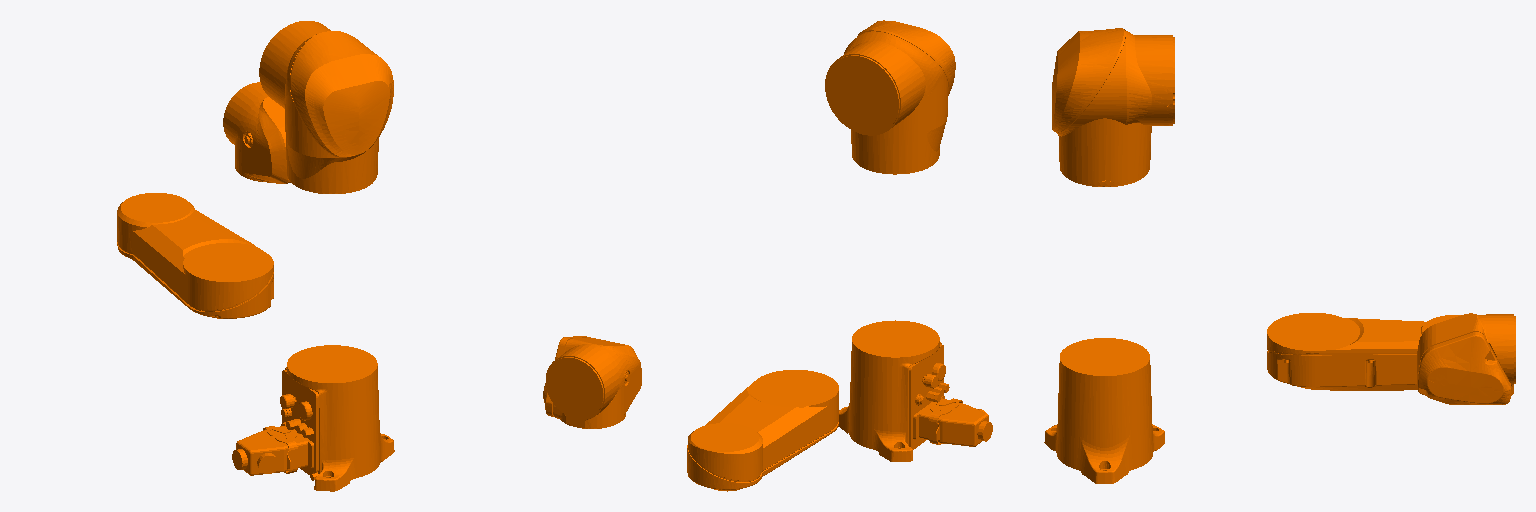
The robot description file, URDF, robot "staubli_tx40":
<?xml version="1.0" encoding="utf-8"?>
<!-- =================================================================================== -->
<!-- |    This document was edited from rx160.urdf                    | -->
<!-- |    EDITING THIS FILE BY HAND IS NOT RECOMMENDED                                 | -->
<!-- =================================================================================== -->
<robot name="staubli_tx40" >
  <!-- RAL 1028 -->
  <!-- RAL 1018 -->
  <!-- RAL 9016 -->
  <!-- RAL 7043 -->
  <!-- links -->
  <material name="yellow">
        <color rgba="1.0 0.502 0 1.0"/>
  </material>
  <material name="grey">
        <color rgba="0.741 0.765 0.780 1.0"/>
  </material>

  <link name="base_link">
    <visual>
      <origin rpy="0 0 0" xyz="0.0 0.0 0.0"/>
      <geometry>
        <mesh filename="package://staubli_tx40_description/meshes/base_link.stl"/>
      </geometry>
      <material name="yellow"/>
    </visual>
    <collision>
      <origin rpy="0 0 0" xyz="-0.008 -0.033 0.167"/>
      <geometry>
        <mesh filename="package://staubli_tx40_description/meshes/base_link.stl"/>
      </geometry>
    </collision>
    <inertial>
      <mass value="4.200"/>
      <origin rpy="0.0 0.0 0.0" xyz="-0.008 -0.033 0.167"/>
      <inertia ixx="0.012" ixy="0.000" ixz="-0.001" iyy="0.012" iyz="0.000" izz="0.007"/>
    </inertial>
  </link>
<!-- joints -->
  <joint name="joint_1" type="revolute">
    <origin rpy="0 0 0" xyz="0 0 0.320"/>
    <parent link="base_link"/>
    <child link="link_1"/>
    <axis xyz="0 0 1"/>
    <limit effort="131.84" lower="-3.14" upper="3.14" velocity="5.009"/>
    <dynamics damping="0.0" friction="0.0"/>
  </joint>

  <link name="link_1">
    <visual>
      <origin rpy="0 0 0" xyz="0.000 0.0 0"/>
      <geometry>
        <mesh filename="package://staubli_tx40_description/meshes/link_1.stl"/>
      </geometry>
      <material name="yellow"/>
    </visual>
    <collision>
      <origin rpy="0 0 0" xyz="0.000 0.020 -0.043"/>
      <geometry>
        <mesh filename="package://staubli_tx40_description/meshes/link_1.stl"/>
      </geometry>
    </collision>
    <inertial>
      <mass value="10.500"/>
      <origin rpy="0.0 0.0 0.0" xyz="0.000 0.020 -0.043"/>
      <inertia ixx="0.055" ixy="0.000" ixz="0.000" iyy="0.047" iyz="0.003" izz="0.035"/>
    </inertial>
  </link>
<!-- joints -->
  <joint name="joint_2" type="revolute">
    <origin rpy="-1.57079632679 0.0  0.0 " xyz="0 0 0"/>
    <parent link="link_1"/>
    <child link="link_2"/>
    <axis xyz="0 0 1"/>
    <limit effort="131.84" lower="-2.18" upper="2.18" velocity="5.009"/>
    <dynamics damping="0.0" friction="0.0"/>
  </joint>

  <link name="link_2">
    <visual>
      <origin rpy="0 0 0" xyz="0.0 0.0 0.0"/>
      <geometry>
        <mesh filename="package://staubli_tx40_description/meshes/link_2.stl"/>
      </geometry>
      <material name="yellow"/>
    </visual>
    <collision>
      <origin rpy="0.0 0.0 0.0" xyz="0.109 -0.002 0.045"/>
      <geometry>
        <mesh filename="package://staubli_tx40_description/meshes/link_2.stl"/>
      </geometry>
    </collision>
    <inertial>
      <mass value="3.600"/>
      <origin rpy="0.0 0.0 -1.57079632679" xyz="0.109 -0.002 0.134"/>
      <inertia ixx="0.009" ixy="0.000" ixz="0.002" iyy="0.038" iyz="0.000" izz="0.040"/>
    </inertial>
  </link>
<!-- joints -->
  <joint name="joint_3" type="revolute">
    <origin rpy="0 0 0" xyz="0.225 0 0.035"/>
    <parent link="link_2"/>
    <child link="link_3"/>
    <axis xyz="0 0 1"/>
    <limit effort="103.49" lower="-2.40" upper="2.40" velocity="7.504"/>
    <dynamics damping="0.0" friction="0.0"/>
  </joint>

  <link name="link_3">
    <visual>
      <origin rpy="0 0 0" xyz="0 0 0"/>
      <geometry>
        <mesh filename="package://staubli_tx40_description/meshes/link_3.stl"/>
      </geometry>
      <material name="yellow"/>
    </visual>
    <collision>
      <origin rpy="0 0 0" xyz="-0.006 0.008 -0.05"/>
      <geometry>
        <mesh filename="package://staubli_tx40_description/meshes/link_3.stl"/>
      </geometry>
    </collision>
    <inertial>
      <mass value="4.070"/>
      <origin rpy="0.0 0.0 -1.57079632679" xyz="0.008 0.006 0.041"/>
      <inertia ixx="0.012" ixy="0.000" ixz="0.001" iyy="0.012" iyz="-0.001" izz="0.004"/>
    </inertial>
  </link>

<!--   <joint name="joint_4" type="revolute">
    <origin rpy="3.14159265359 -1.57079632679 0" xyz="0.225 0 0.0"/>
    <parent link="link_3"/>
    <child link="link_4"/>
    <axis xyz="0 0 1"/>
    <limit effort="46.08" lower="-4.71" upper="4.71" velocity="7.15"/>
    <dynamics damping="0.0" friction="0.0"/>
  </joint>

  <link name="link_4">
    <visual>
      <origin rpy="0 0 0" xyz="0 0 0"/>
      <geometry>
        <mesh filename="package://staubli_tx40_description/meshes/link_4.stl"/>
      </geometry>
      <material name="yellow"/>
    </visual>
    <collision>
      <origin rpy="0 0 0" xyz="0.002 0.004 0.081"/>
      <geometry>
        <mesh filename="package://staubli_tx40_description/meshes/link_4.stl"/>
      </geometry>
    </collision>
    <inertial>
      <mass value="3.620"/>
      <origin rpy="0.0 0.0 1.57079632679" xyz="0.002 0.004 -0.107"/>
      <inertia ixx="0.013" ixy="0.000" ixz="0.000" iyy="0.014" iyz="0.001" izz="0.004"/>
    </inertial>
  </link>
 -->
<!--   <joint name="joint_5" type="revolute">
    <origin rpy="0 1.57079632679 3.14159265359" xyz="0 0 0"/>
    <parent link="link_4"/>
    <child link="link_5"/>
    <axis xyz="0 0 1"/>
    <limit effort="43.19" lower="-2.09" upper="2.33" velocity="5.585"/>
    <dynamics damping="0.0" friction="0.0"/>
  </joint>

  <link name="link_5">
    <visual>
      <origin rpy="1.57079632679 0 0" xyz="-0.225 0.545 -0.035"/>
      <geometry>
        <mesh filename="package://staubli_tx40_description/meshes/link_5.stl"/>
      </geometry>
      <material name="grey"/>
    </visual>
    <collision>
      <origin rpy="0 0 0" xyz="0.003 0.000 -0.001"/>
      <geometry>
        <mesh filename="package://staubli_tx40_description/meshes/link_5.stl"/>
      </geometry>
    </collision>
    <inertial>
      <mass value="1.020"/>
      <origin rpy="0.0 0.0 -1.57079632679" xyz="-0.004 -0.003 -0.001"/>
      <inertia ixx="0.001" ixy="0.000" ixz="0.000" iyy="0.001" iyz="0.000" izz="0.001"/>
    </inertial>
  </link>

  <joint name="joint_6" type="revolute">
    <origin rpy="0 1.57079632679 0" xyz="0.0 0.0 0.0"/>
    <parent link="link_5"/>
    <child link="link_6"/>
    <axis xyz="0 0 1"/>
    <limit effort="30.72" lower="-4.71" upper="4.71" velocity="12.217"/>
    <dynamics damping="0.0" friction="0.0"/>
  </joint>

  <link name="link_6">
    <visual>
      <origin rpy="0 0 0" xyz="-0.225  -0.035 -0.545"/>
      <geometry>
        <mesh filename="package://staubli_tx40_description/meshes/link_6.stl"/>
      </geometry>
      <material name="grey"/>
    </visual>
    <collision>
      <origin rpy="0 0 0" xyz="0.000 0.000 0.042"/>
      <geometry>
        <mesh filename="package://staubli_tx40_description/meshes/link_6.stl"/>
      </geometry>
    </collision>
    <inertial>
      <mass value="0.2"/>
      <origin rpy="0.0 0.0 -1.57079632679" xyz="0.000 0.000 0.042"/>
      <inertia ixx="0.000" ixy="0.000" ixz="0.000" iyy="0.000" iyz="0.000" izz="0.000"/>
    </inertial>
  </link>
  <link name="tool0"/>

  <joint name="joint_6-tool0" type="fixed">
    <parent link="link_6"/>
    <child link="tool0"/>
    <origin rpy="0 0 0" xyz="0 0 0"/>
  </joint> -->
</robot>

--- Render facts (derived) ---
Views: 3 orthographic renders of the robot side by side, from view 1: azimuth 30°, elevation 25°; view 2: azimuth 150°, elevation 25°; view 3: azimuth 270°, elevation 25°.
Model staubli_tx40 with 4 links and 3 joints (3 revolute), rooted at base_link, posed all joints at 0.
Links seen in each view (by area): view 1: link_1, base_link, link_2, link_3; view 2: link_1, base_link, link_2, link_3; view 3: link_1, base_link, link_2, link_3.
Link boxes in pixels (x1,y1,x2,y2): link_1: (259, 21, 393, 193); base_link: (232, 345, 394, 491); link_2: (117, 193, 273, 318); link_3: (223, 82, 290, 183); link_1: (825, 20, 955, 174); base_link: (838, 320, 992, 461); link_2: (687, 370, 838, 491); link_3: (543, 336, 641, 428); link_1: (1052, 28, 1174, 186); base_link: (1044, 338, 1164, 483); link_2: (1267, 313, 1460, 390); link_3: (1417, 313, 1515, 404).
Bounding box of the posed robot: 0.4651 × 0.7285 × 0.7224 m (x, y, z).
Meshes: 4 distinct files referenced, 4 mesh visuals loaded (4 binary STL).